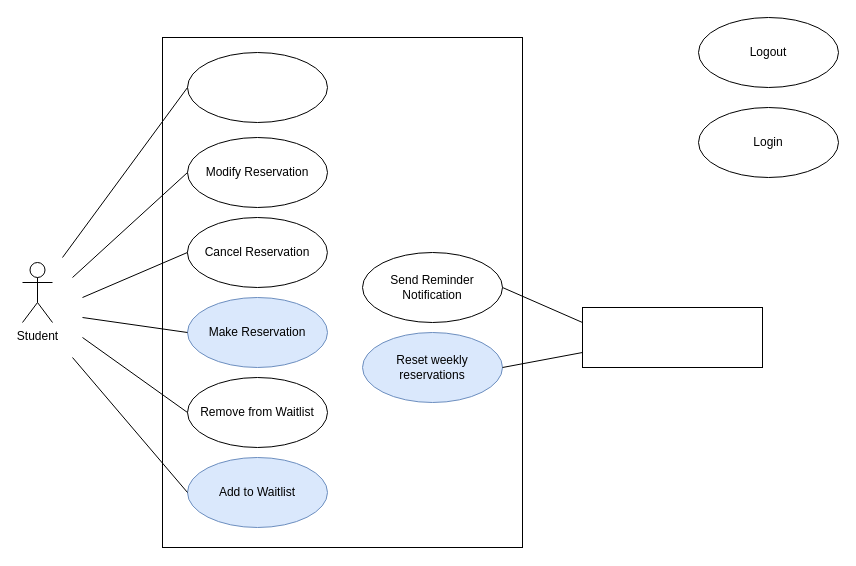
Some shapes in this 856 by 566 pixel diagram are drawn without their labels. Here are the shapes that lost their labels. From the top down, the centre of each, then its label:
At point 257,87: "Add Room to Favourite".
At point 672,337: "<<actor>> Application".
